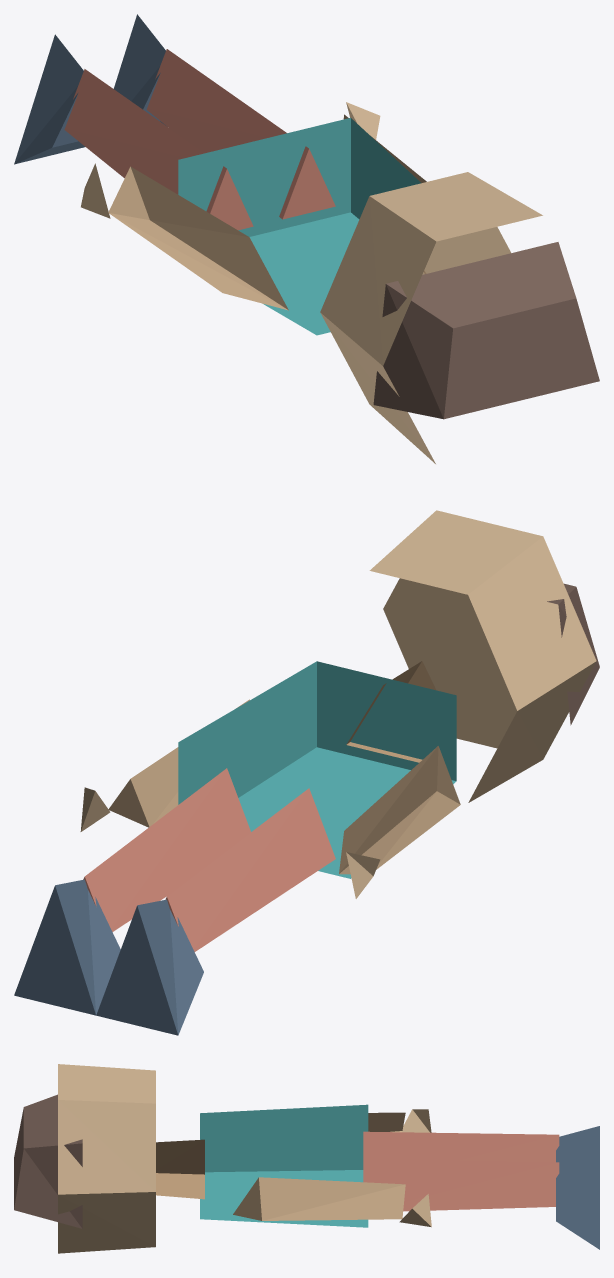
Rendered from low_poly_character_under_100_vertices.glb.
The picture shows the model from 3 angles, top to bottom: view 1: azimuth 30°, elevation 25°; view 2: azimuth 150°, elevation 25°; view 3: azimuth 270°, elevation 25°; orthographic projection. The views are drawn at different scales.
Parts seen in each view (by area): view 1: Hair, Head, Torso, LeftArm, LeftLeg, RightLeg, LeftShoe, RightShoe, LeftHand, RightHand; view 2: Head, Torso, LeftLeg, RightLeg, LeftShoe, RightShoe, LeftArm, RightArm, Hair, Neck, LeftHand, RightHand; view 3: Head, Torso, RightLeg, RightArm, LeftLeg, Hair, RightShoe, Neck, LeftShoe, LeftArm, RightHand, LeftHand.
Boxes of the visible parts, x1,y1,x2,y2 form: Hair: (373,242,599,419); Head: (320,172,542,463); Torso: (178,117,421,335); LeftArm: (108,166,288,310); LeftLeg: (64,69,253,230); RightLeg: (146,49,335,219); LeftShoe: (14,34,84,164); RightShoe: (113,14,165,125); LeftHand: (81,163,110,218); RightHand: (346,102,380,139); Head: (369,510,596,802); Torso: (178,661,456,878); LeftLeg: (165,788,335,951); RightLeg: (83,768,250,931); LeftShoe: (96,899,203,1035); RightShoe: (14,879,120,1015); LeftArm: (339,746,460,874); RightArm: (108,699,249,827); Hair: (547,583,599,725); Neck: (346,661,435,762); LeftHand: (346,852,380,898); RightHand: (80,787,110,831); Head: (58,1064,155,1253); Torso: (200,1104,368,1227); RightLeg: (363,1159,559,1211); RightArm: (233,1177,405,1220); LeftLeg: (363,1131,559,1162); Hair: (14,1094,82,1228); RightShoe: (556,1153,599,1249); Neck: (156,1139,204,1199); LeftShoe: (556,1126,599,1164); LeftArm: (368,1112,405,1132); RightHand: (399,1194,431,1227); LeftHand: (402,1109,431,1132).
Size of the model in its own units: 1.44 by 1.13 by 3.59.
